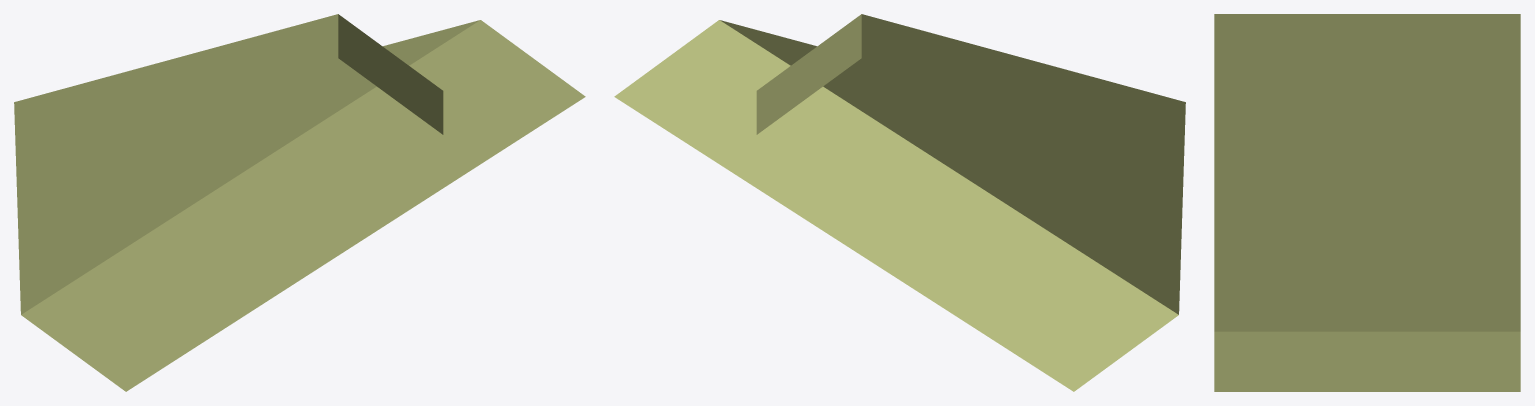
3 views of the same model, side by side, from view 1: azimuth 30°, elevation 25°; view 2: azimuth 150°, elevation 25°; view 3: azimuth 270°, elevation 25° (orthographic). The views are drawn at different scales.
Parts seen in each view (by area): view 1: 0_3_2_3_1_1_1_2_2_2; view 2: 0_3_2_3_1_1_1_2_2_2; view 3: 0_3_2_3_1_1_1_2_2_2.
Part boxes in pixels (x1,y1,x2,y2): 0_3_2_3_1_1_1_2_2_2: (14,14,585,391); 0_3_2_3_1_1_1_2_2_2: (614,14,1185,391); 0_3_2_3_1_1_1_2_2_2: (1214,14,1520,391).
Bounding box in the file's own units: 15.38 × 7.04 × 6.
